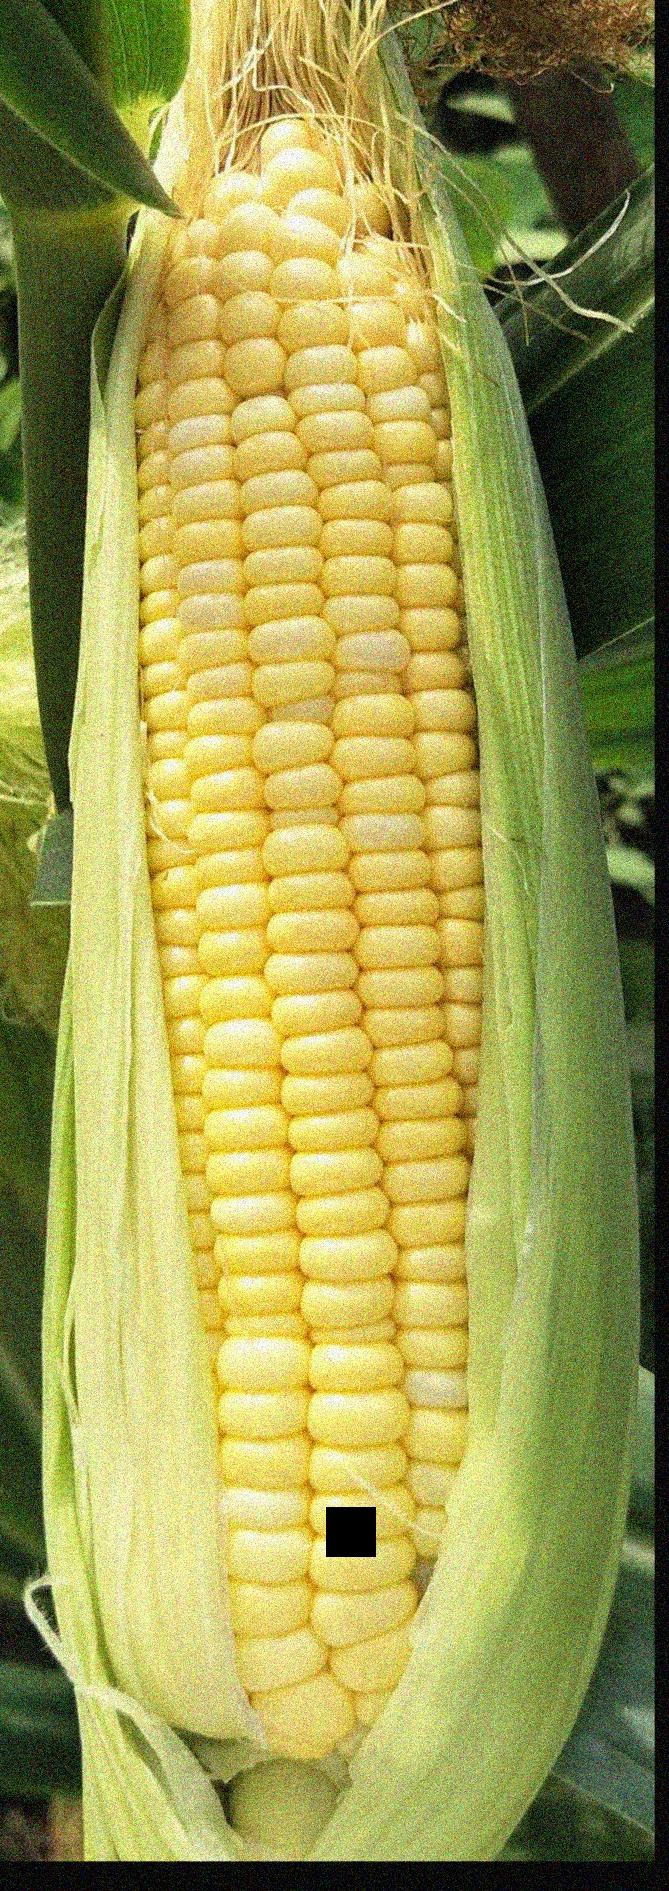corn: (48, 89, 636, 1861)
